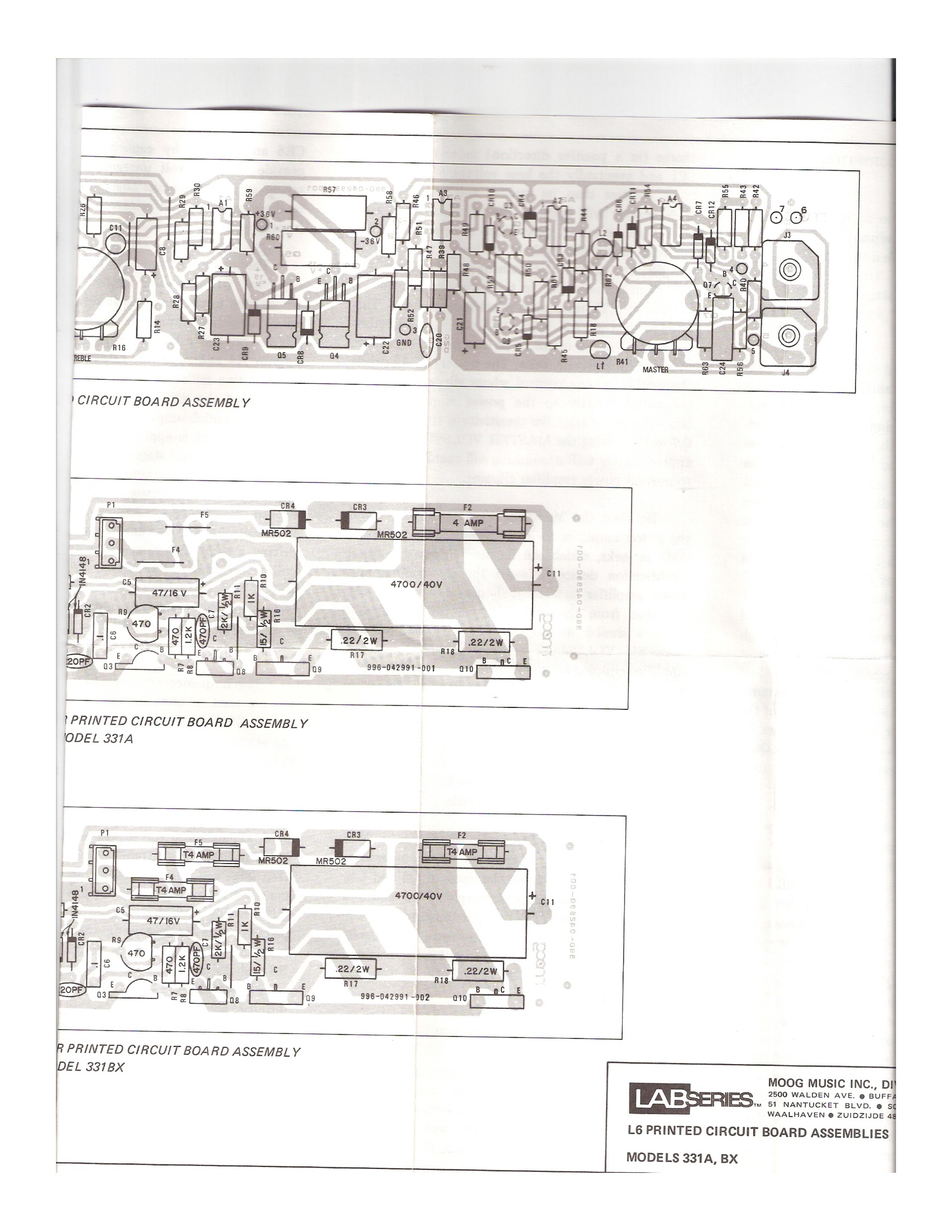A1: (218, 198, 229, 207)
C11: (109, 223, 123, 232), (547, 569, 561, 578)
C20: (435, 332, 442, 347)
C21: (455, 316, 464, 331)
C22: (382, 340, 391, 355)
C23: (212, 337, 222, 352)
C24: (719, 361, 727, 376)
C5: (122, 578, 132, 586), (116, 906, 125, 914)
C6: (109, 629, 117, 641), (104, 958, 110, 969)
C7: (200, 937, 210, 948), (208, 609, 215, 618)
C8: (158, 246, 168, 258)
CR11: (628, 187, 637, 205)
CR12: (708, 199, 716, 219)
CR2: (83, 603, 91, 619), (77, 932, 85, 947)
CR3: (352, 502, 369, 511), (347, 830, 361, 838)
CR4: (279, 502, 297, 511), (274, 829, 290, 837)
CR5: (514, 342, 521, 358)
CR7: (694, 199, 703, 215)
CR8: (297, 350, 305, 365)
CR9: (241, 345, 250, 360)
F20: (457, 831, 468, 840), (462, 503, 472, 512)
F4: (165, 872, 174, 882), (171, 546, 181, 553)
F5: (200, 511, 210, 519), (193, 839, 203, 846)
J4: (781, 368, 791, 378)
L1: (595, 361, 605, 371)
L2: (598, 229, 608, 238)
MR502: (376, 530, 408, 540), (261, 528, 291, 538), (316, 857, 347, 866), (257, 856, 288, 865)
P1: (105, 500, 117, 509), (100, 829, 110, 837)
Q3_4: (103, 662, 113, 671), (96, 991, 107, 999)
Q4: (329, 352, 340, 360)
Q5: (276, 351, 287, 360)
Q8: (229, 996, 239, 1005), (236, 667, 246, 675)
Q9: (312, 665, 322, 673)
R10: (259, 573, 268, 589), (253, 901, 260, 917)
R11: (227, 912, 236, 929), (234, 584, 241, 599)
R14: (153, 319, 162, 334)
R16: (272, 607, 281, 624), (267, 936, 275, 952), (112, 344, 126, 352)
R17: (343, 979, 359, 989), (349, 651, 365, 658)
R18: (440, 646, 455, 657), (434, 976, 449, 985), (589, 322, 597, 336)
R27: (197, 325, 206, 340)
R28: (172, 293, 180, 308)
R29: (178, 194, 187, 209)
R30: (192, 181, 200, 197)
R39: (438, 244, 446, 260)
R40: (739, 277, 747, 292)
R41: (615, 357, 629, 366)
R42: (751, 184, 761, 199)
R43: (739, 184, 748, 199)
R45: (560, 349, 568, 363)
R46: (411, 193, 420, 208)
R47: (425, 245, 432, 260)
R48: (463, 262, 470, 278)
R49: (461, 222, 470, 237)
R51: (415, 221, 423, 236)
R52: (407, 308, 415, 323)
R54: (644, 183, 652, 197)
R55: (721, 183, 730, 199)
R56: (736, 361, 744, 377)
R57: (322, 185, 337, 194)
R58: (385, 190, 394, 204)
R59: (245, 187, 253, 203)
R60: (266, 232, 281, 242)
R63: (701, 362, 710, 376)
R7: (169, 991, 179, 1002), (177, 662, 185, 673)
R8: (180, 992, 188, 1004), (186, 665, 194, 674)
R9: (117, 607, 128, 616), (112, 936, 121, 944)
